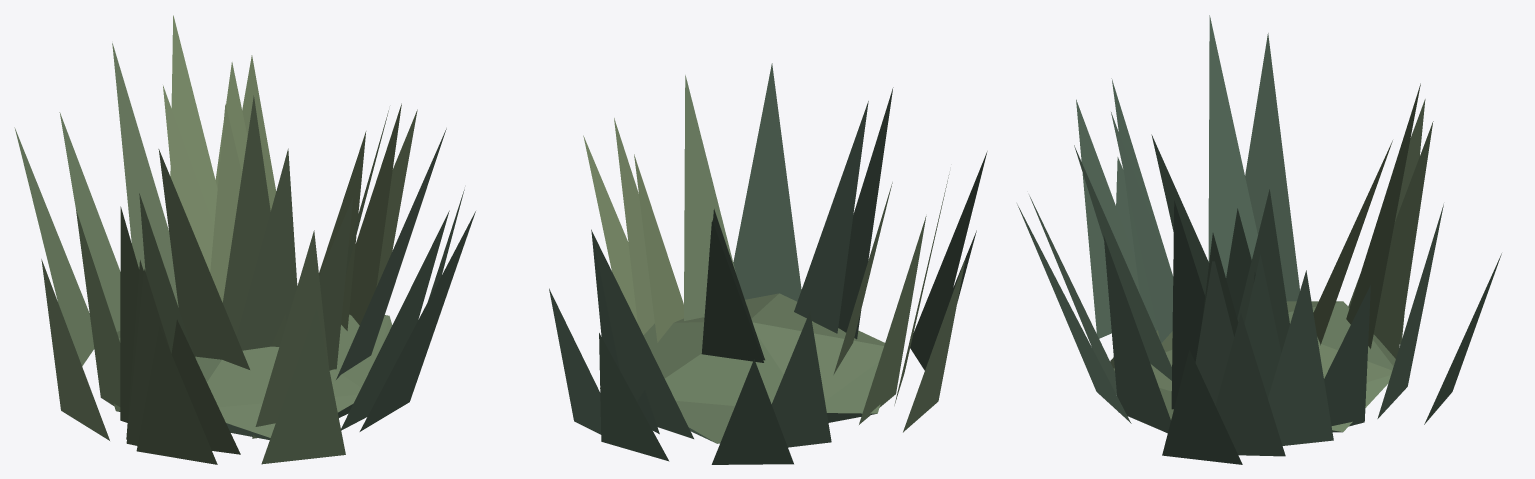
Rendered from bush_a.glb.
3 views of the same model, side by side, from view 1: azimuth 30°, elevation 25°; view 2: azimuth 150°, elevation 25°; view 3: azimuth 270°, elevation 25° (orthographic). The views are drawn at different scales.
Parts seen in each view (by area): view 1: bush_a; view 2: bush_a; view 3: bush_a.
Part boxes in pixels (x1,y1,x2,y2): bush_a: (14, 15, 475, 464); bush_a: (549, 63, 987, 464); bush_a: (1017, 15, 1501, 464).
Bounding box in the file's own units: 1.49 × 1.08 × 1.57.
